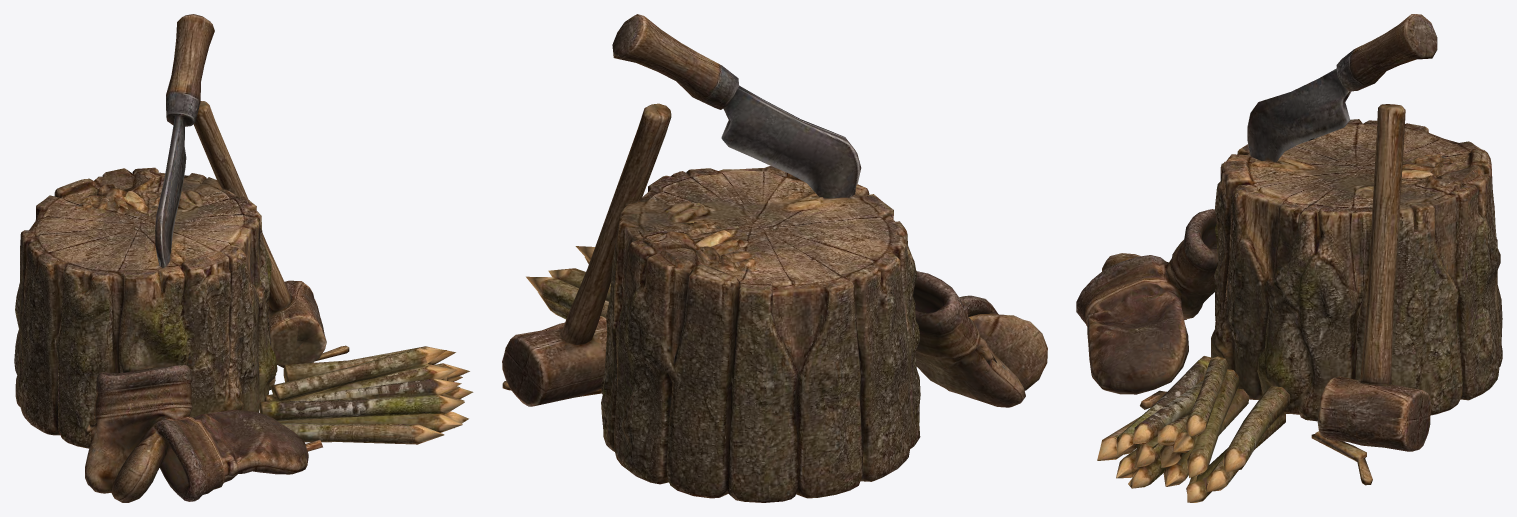
Rendered from kit_tw_hedging_tools.glb.
3 renders of one model, left to right at view 1: azimuth 30°, elevation 25°; view 2: azimuth 150°, elevation 25°; view 3: azimuth 270°, elevation 25°, orthographic. The views are drawn at different scales.
Visible parts, largest first — view 1: kit_tw_hedging_tools; view 2: kit_tw_hedging_tools; view 3: kit_tw_hedging_tools.
Part boxes in pixels (x1,y1,x2,y2): kit_tw_hedging_tools: [14, 14, 473, 502]; kit_tw_hedging_tools: [502, 14, 1047, 502]; kit_tw_hedging_tools: [1076, 14, 1502, 502].
Size of the model in its own units: 1.09 by 0.95 by 0.916.
1 material, 1 textured.
